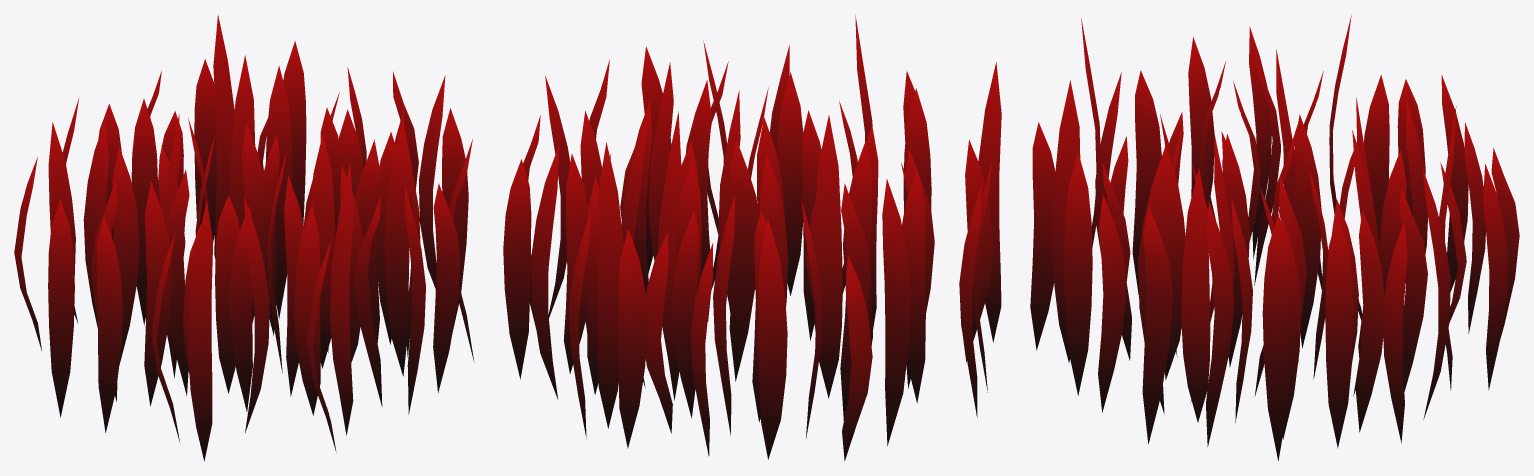
Rendered from Grass.fbx.
3 renders of one model, left to right at view 1: azimuth 30°, elevation 25°; view 2: azimuth 150°, elevation 25°; view 3: azimuth 270°, elevation 25°, orthographic. The views are drawn at different scales.
Parts seen in each view (by area): view 1: Grass_LOD0; view 2: Grass_LOD0; view 3: Grass_LOD0.
Part boxes in pixels (x1=…): Grass_LOD0: x1=14, y1=15, x2=474, y2=461; Grass_LOD0: x1=503, y1=14, x2=1001, y2=460; Grass_LOD0: x1=1030, y1=15, x2=1519, y2=460.
Size of what is drawn, in the model's own units: 87.87 by 57.16 by 88.05.
